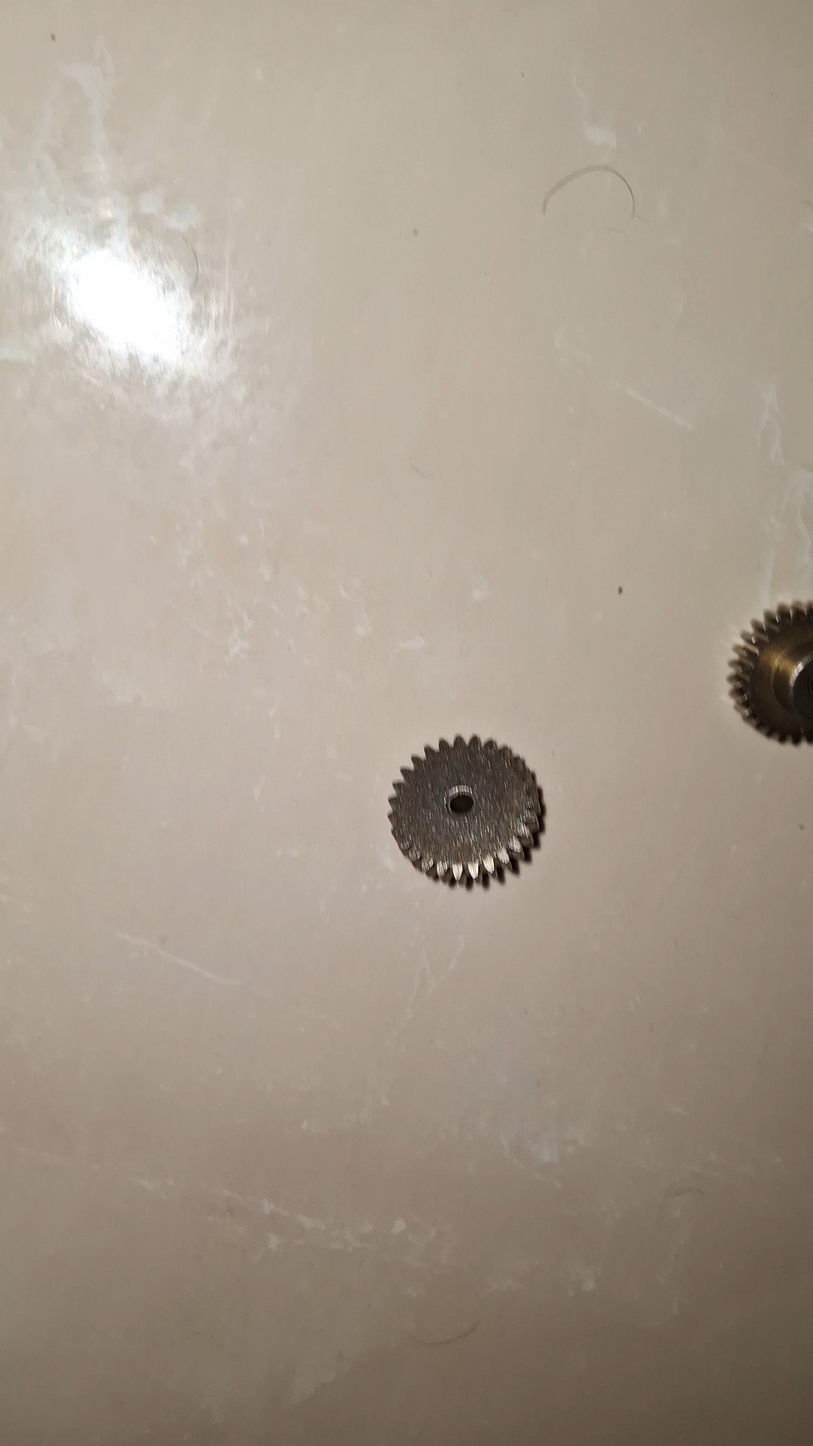spur gear: (389, 736, 540, 882), (729, 602, 813, 743)
